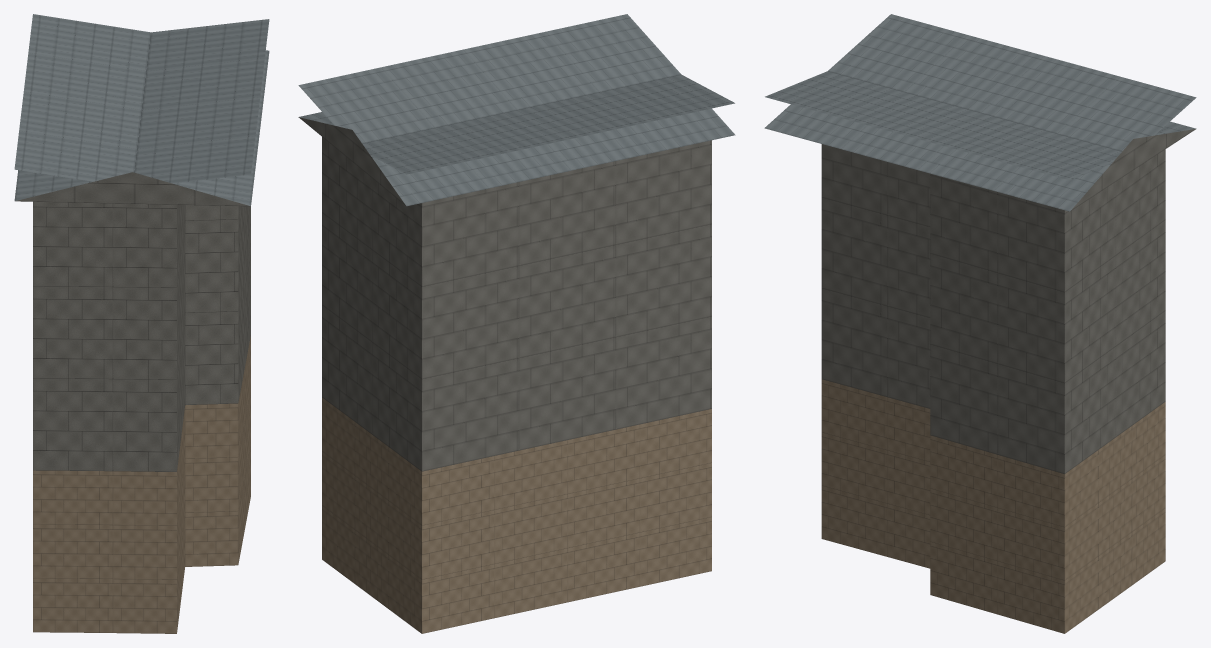
The model's file is bld_c-23_10_544.gltf.
3 views of the same model, side by side, from view 1: azimuth 30°, elevation 25°; view 2: azimuth 150°, elevation 25°; view 3: azimuth 270°, elevation 25° (orthographic).
Parts seen in each view (by area): view 1: bld_c-23_10_544; view 2: bld_c-23_10_544; view 3: bld_c-23_10_544.
Part boxes in pixels (x1,y1,x2,y2): bld_c-23_10_544: (14, 14, 269, 633); bld_c-23_10_544: (298, 14, 735, 633); bld_c-23_10_544: (764, 14, 1196, 633).
Bounding box in the file's own units: 11.39 × 14.8 × 12.51.
4 materials, 4 textured.
